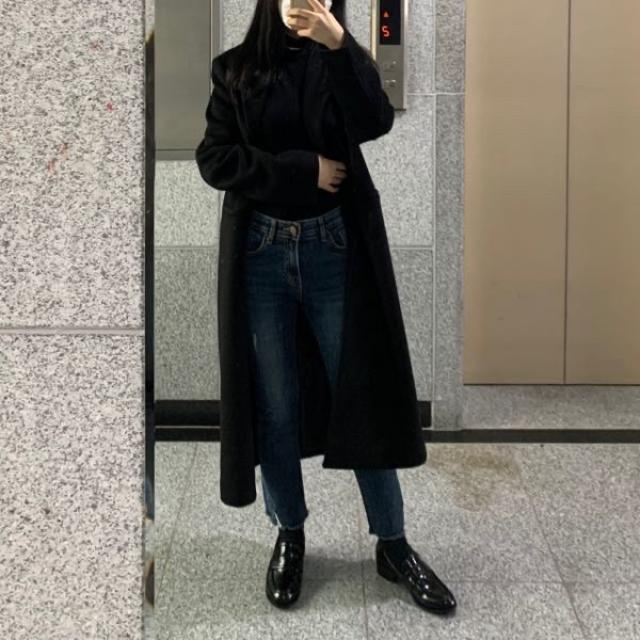coat: (193, 37, 428, 508)
denimpants: (243, 201, 408, 537)
